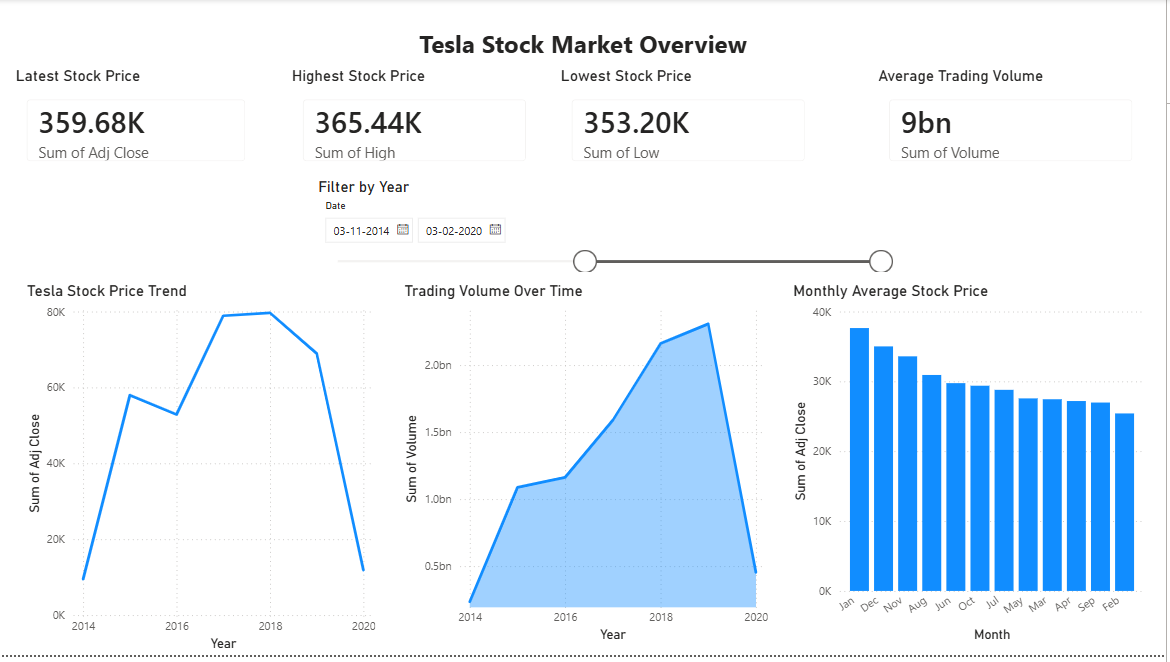

Layout of this report page (visuals, bound fields, positions):
{"tool":"powerbi","page":{"name":"Page 1","canvas":[1280,720],"ordinal":0},"visuals":[{"type":"cardVisual","title":"Latest Stock Price","fields":{"Data":["Sum(cleaned_tesla_stock.Adj Close)"]},"box":[12.3,74.1,274.4,122.1],"z":0},{"type":"cardVisual","title":"Highest Stock Price","fields":{"Data":["Sum(cleaned_tesla_stock.High)"]},"box":[315.6,74.1,279.9,122.1],"z":1000},{"type":"cardVisual","title":"Lowest Stock Price","fields":{"Data":["Sum(cleaned_tesla_stock.Low)"]},"box":[610.6,74.1,290.9,122.1],"z":2000},{"type":"cardVisual","title":"Average Trading Volume","fields":{"Data":["Sum(cleaned_tesla_stock.Volume)"]},"box":[959.2,74.1,301.9,122.1],"z":3000},{"type":"lineChart","title":"Tesla Stock Price Trend","fields":{"Category":["cleaned_tesla_stock.Date.Variation.Date Hierarchy.Year","cleaned_tesla_stock.Date.Variation.Date Hierarchy.Quarter","cleaned_tesla_stock.Date.Variation.Date Hierarchy.Month","cleaned_tesla_stock.Date.Variation.Date Hierarchy.Day"],"Y":["Sum(cleaned_tesla_stock.Adj Close)"]},"box":[24.7,310.1,392.5,410.3],"z":3001},{"type":"areaChart","title":"Trading Volume Over Time","fields":{"Category":["cleaned_tesla_stock.Date.Variation.Date Hierarchy.Year","cleaned_tesla_stock.Date.Variation.Date Hierarchy.Quarter","cleaned_tesla_stock.Date.Variation.Date Hierarchy.Month","cleaned_tesla_stock.Date.Variation.Date Hierarchy.Day"],"Y":["Sum(cleaned_tesla_stock.Volume)"]},"box":[439.1,310.1,408.9,400.7],"z":3002},{"type":"lineClusteredColumnComboChart","title":"Monthly Average Stock Price","fields":{"Category":["cleaned_tesla_stock.Month"],"Y":["Sum(cleaned_tesla_stock.Adj Close)"]},"box":[865.9,310.1,395.2,400.7],"z":3003},{"type":"slicer","title":"Filter by Year","fields":{"Values":["cleaned_tesla_stock.Date"]},"box":[344.4,196.2,643.6,102.9],"z":3004},{"type":"textbox","box":[0,26.1,1280.3,48],"z":3005}]}

Visuals, with their boxes in screenshot pixels (x1, y1, x2, y2), scaled from the page's 1280x720 canvas onto the 1170x662 screenshot:
"Latest Stock Price" cardVisual: select_region(11, 68, 262, 180)
"Highest Stock Price" cardVisual: select_region(288, 68, 544, 180)
"Lowest Stock Price" cardVisual: select_region(558, 68, 824, 180)
"Average Trading Volume" cardVisual: select_region(877, 68, 1153, 180)
"Tesla Stock Price Trend" lineChart: select_region(23, 285, 381, 661)
"Trading Volume Over Time" areaChart: select_region(401, 285, 775, 654)
"Monthly Average Stock Price" lineClusteredColumnComboChart: select_region(791, 285, 1153, 654)
"Filter by Year" slicer: select_region(315, 180, 903, 275)
textbox: select_region(0, 24, 1169, 68)
